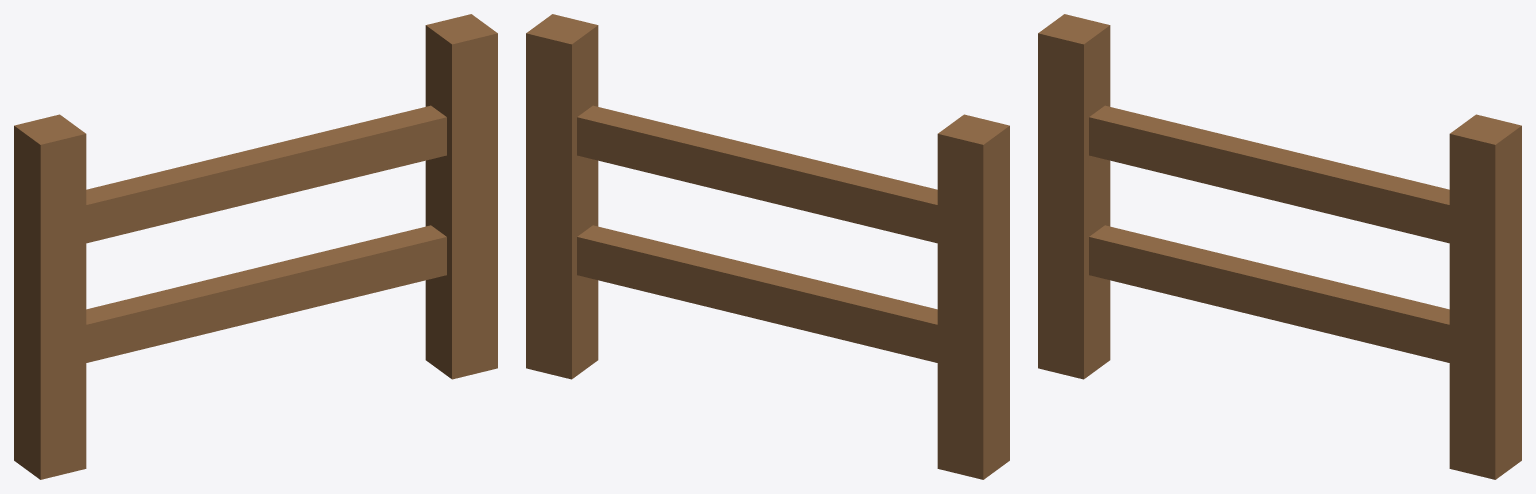
File: fence.glb
The picture shows the model from 3 angles, left to right: view 1: azimuth 30°, elevation 25°; view 2: azimuth 150°, elevation 25°; view 3: azimuth 330°, elevation 25°; orthographic projection.
Parts seen in each view (by area): view 1: n1, n2, n3, n4; view 2: n1, n2, n3, n4; view 3: n2, n1, n3, n4.
Boxes of the visible parts, x1,y1,x2,y2 form: n1: [14, 114, 86, 479]; n2: [425, 14, 497, 379]; n3: [19, 225, 446, 375]; n4: [19, 105, 446, 254]; n1: [937, 114, 1009, 479]; n2: [526, 14, 598, 379]; n3: [577, 225, 1004, 371]; n4: [577, 105, 1004, 253]; n2: [1449, 114, 1521, 479]; n1: [1038, 14, 1110, 379]; n3: [1089, 225, 1516, 375]; n4: [1089, 105, 1516, 255].
Size of the model in its own units: 1 by 0.7 by 0.1.
